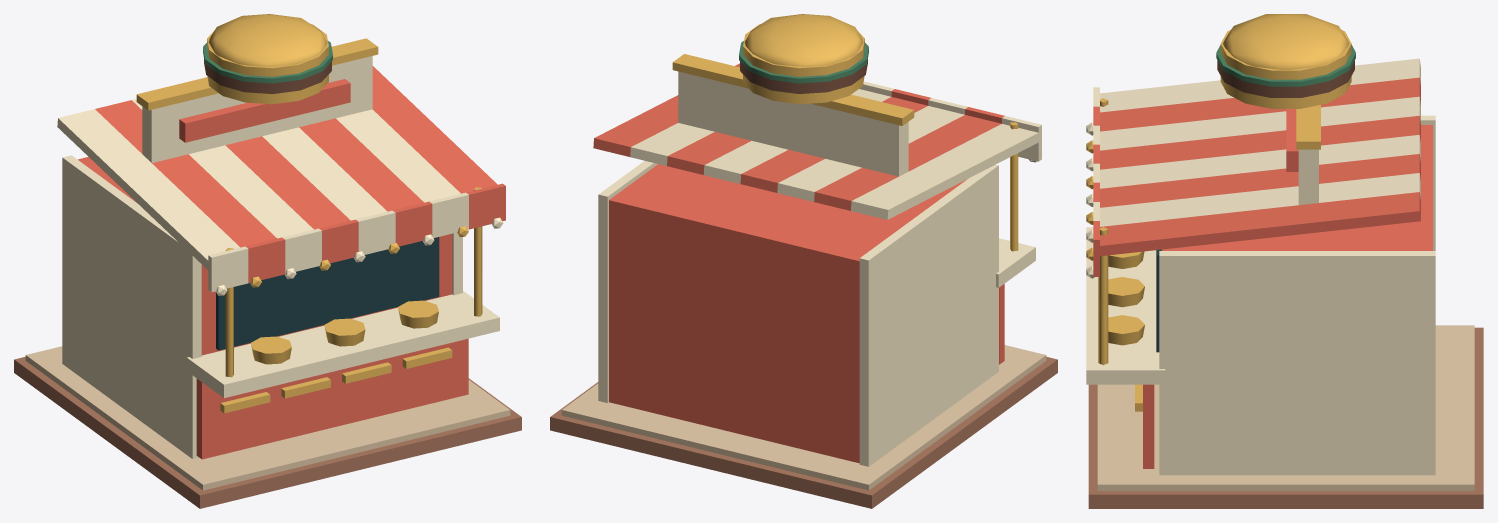
The model's file is stall_food.glb.
3 views of the same model, side by side, from view 1: azimuth 30°, elevation 25°; view 2: azimuth 150°, elevation 25°; view 3: azimuth 270°, elevation 25° (orthographic). The views are drawn at different scales.
Parts seen in each view (by area): view 1: stall_food; view 2: stall_food; view 3: stall_food.
Part boxes in pixels (bbox=[...]): stall_food: bbox=[14, 14, 521, 508]; stall_food: bbox=[550, 14, 1057, 508]; stall_food: bbox=[1086, 14, 1483, 508].
Bounding box in the file's own units: 3.5 × 3.89 × 3.52.
